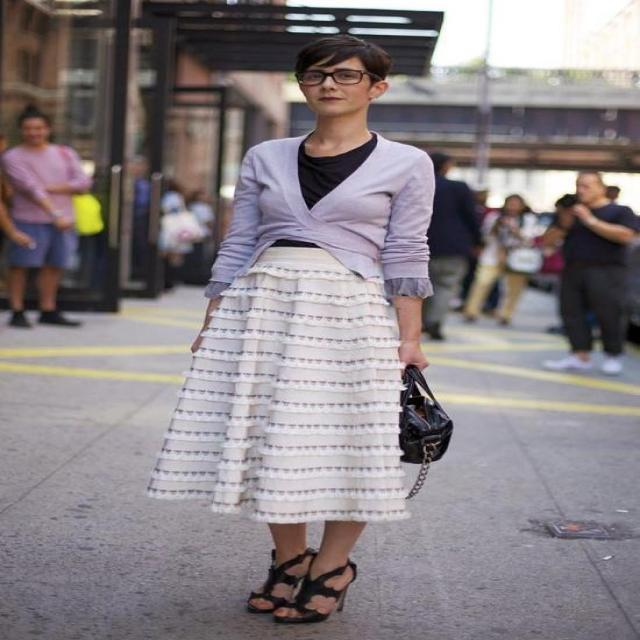skirt: (144, 247, 412, 522)
sweater: (207, 132, 436, 296)
